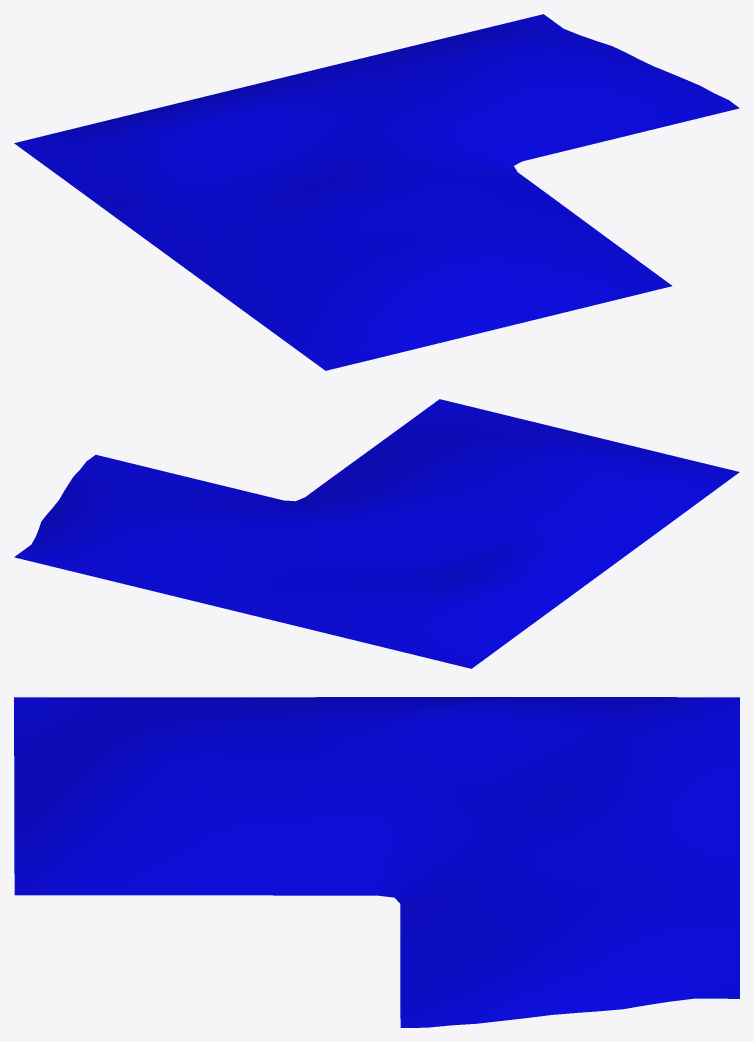
File: park.FBX
3 views of the same model, one above another, from view 1: azimuth 30°, elevation 25°; view 2: azimuth 150°, elevation 25°; view 3: azimuth 270°, elevation 25° (orthographic). The views are drawn at different scales.
Visible parts, largest first — view 1: park; view 2: park; view 3: park.
Boxes of the visible parts, x1,y1,x2,y2 form: park: (14,14,739,370); park: (14,399,739,668); park: (14,697,739,1027).
Size of the model in its own units: 112128 by 5197 by 104102.
